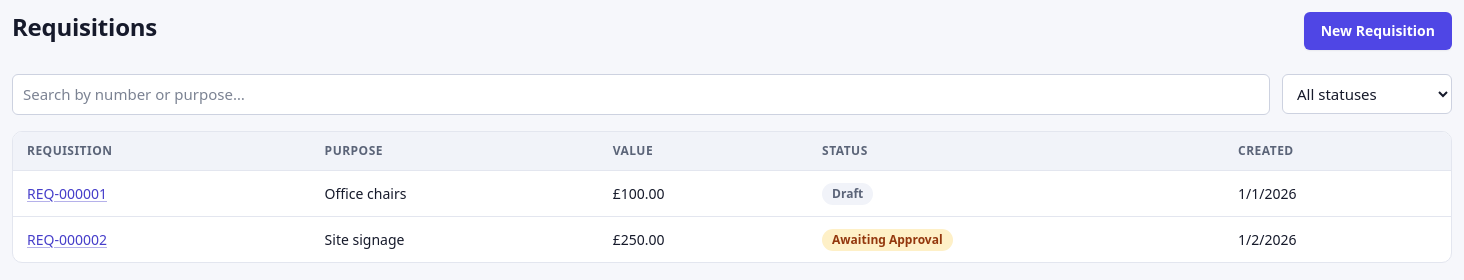
it: RequisitionListPage (item 5) › SEARCH: text search matches requisition number or purpose
Expected: the link "REQ-000001" is shown, [27,184,107,202]
Type "signage" into the field named "Search requisitions" at (641, 94), box [12,74,1270,114]
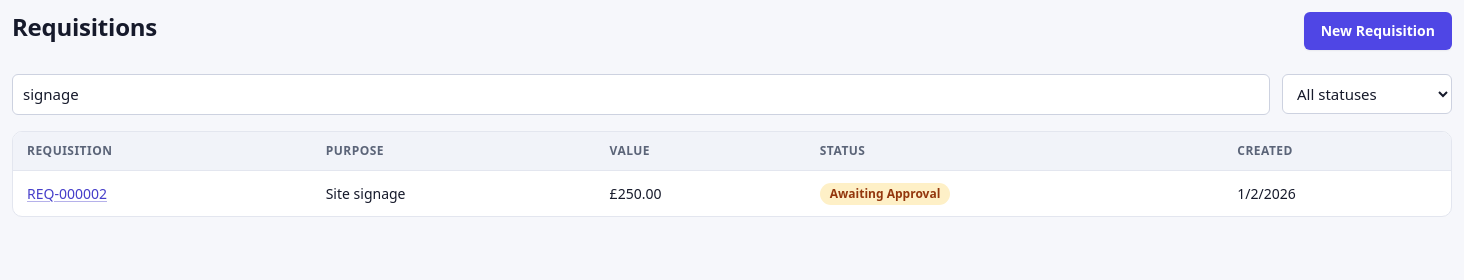
Expected: the link "REQ-000002" is shown, [27,184,107,202]
Result: the link "REQ-000001" is gone
